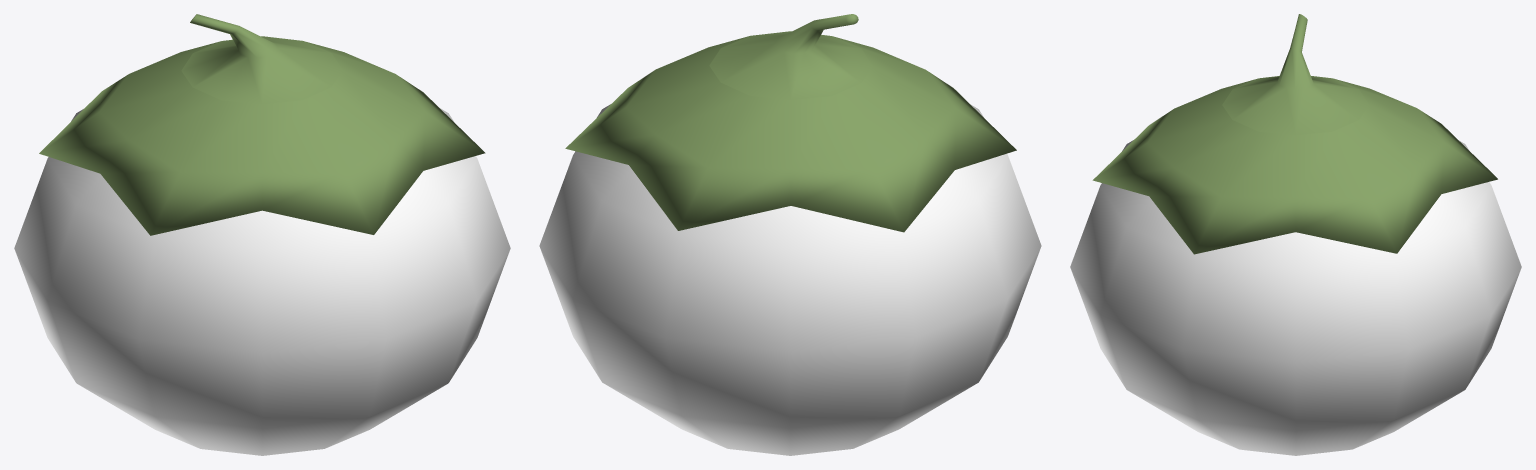
Rendered from white-fruit.fbx.
The picture shows the model from 3 angles, left to right: view 1: azimuth 30°, elevation 25°; view 2: azimuth 150°, elevation 25°; view 3: azimuth 270°, elevation 25°; orthographic projection. The views are drawn at different scales.
Visible parts, largest first — view 1: polySurface11; view 2: polySurface11; view 3: polySurface11.
Boxes of the visible parts, x1,y1,x2,y2 form: polySurface11: [14, 14, 510, 455]; polySurface11: [539, 14, 1041, 455]; polySurface11: [1070, 14, 1521, 455].
Size of the model in its own units: 16.21 by 15.34 by 16.21.
2 materials, 1 textured.
